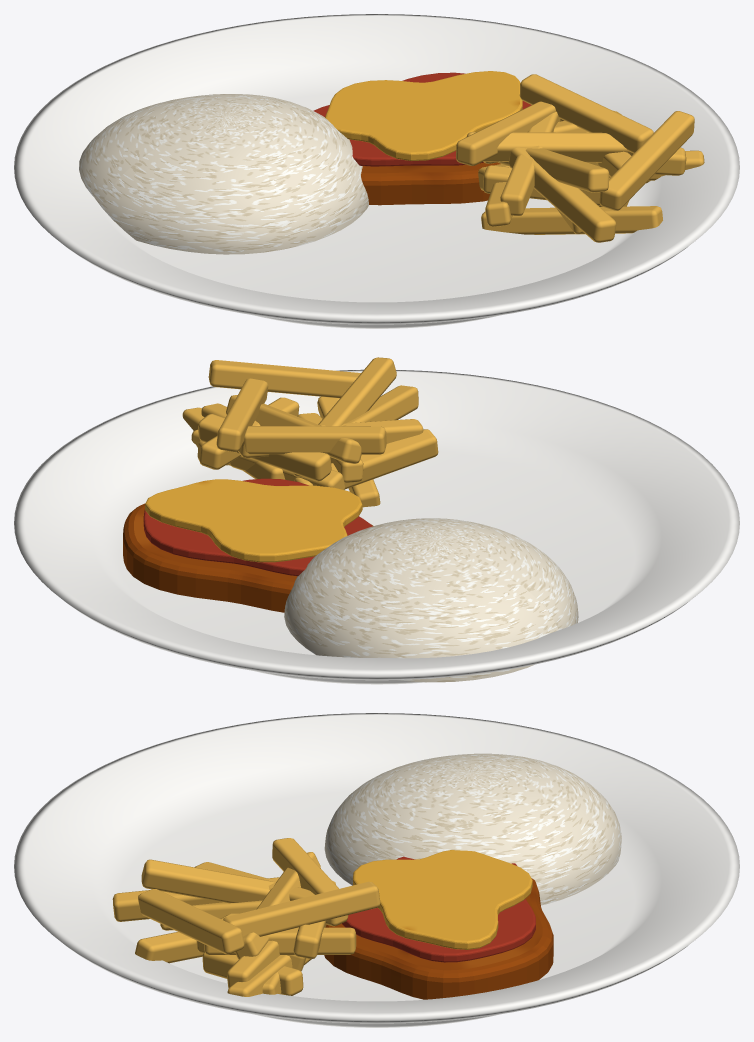
File: parmegiana.glb
The picture shows the model from 3 angles, top to bottom: view 1: azimuth 30°, elevation 25°; view 2: azimuth 150°, elevation 25°; view 3: azimuth 270°, elevation 25°; orthographic projection.
Size of the model in its own units: 0.27 by 0.0451 by 0.27.
Materials: 6 (3 with a texture image).
